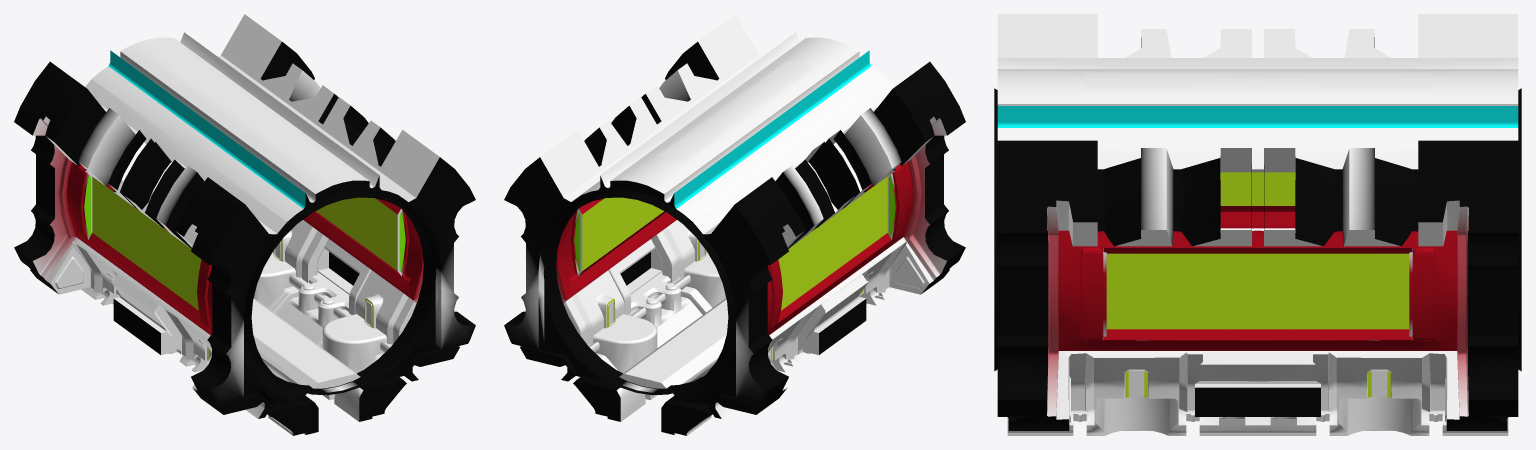
Rendered from part_main-lod0.dae.
3 views of the same model, side by side, from view 1: azimuth 30°, elevation 25°; view 2: azimuth 150°, elevation 25°; view 3: azimuth 270°, elevation 25° (orthographic). The views are drawn at different scales.
Parts seen in each view (by area): view 1: part_main-lod0Xlod0Xp2genericXgen_p2_hulltextureaged_02_b, part_main-lod0Xlod0Xp2genericXgen_p2_hullpattern_01, part_main-lod0Xlod0Xp2genericXgen_p2_hulltexture_02_c, part_main-lod0Xlod0Xp2multimatXp2_multimat_01, part_main-lod0Xlod0Xp2genericXgen_p2_fx_01; view 2: part_main-lod0Xlod0Xp2genericXgen_p2_hulltextureaged_02_b, part_main-lod0Xlod0Xp2genericXgen_p2_hullpattern_01, part_main-lod0Xlod0Xp2genericXgen_p2_hulltexture_02_c, part_main-lod0Xlod0Xp2multimatXp2_multimat_01, part_main-lod0Xlod0Xp2genericXgen_p2_fx_01; view 3: part_main-lod0Xlod0Xp2genericXgen_p2_hulltextureaged_02_b, part_main-lod0Xlod0Xp2genericXgen_p2_hulltexture_02_c, part_main-lod0Xlod0Xp2genericXgen_p2_hullpattern_01, part_main-lod0Xlod0Xp2multimatXp2_multimat_01, part_main-lod0Xlod0Xp2genericXgen_p2_fx_01.
Boxes of the visible parts, x1,y1,x2,y2 form: part_main-lod0Xlod0Xp2genericXgen_p2_hulltextureaged_02_b: [14, 32, 475, 435]; part_main-lod0Xlod0Xp2genericXgen_p2_hullpattern_01: [14, 14, 475, 435]; part_main-lod0Xlod0Xp2genericXgen_p2_hulltexture_02_c: [85, 37, 400, 315]; part_main-lod0Xlod0Xp2multimatXp2_multimat_01: [67, 127, 422, 360]; part_main-lod0Xlod0Xp2genericXgen_p2_fx_01: [113, 252, 359, 354]; part_main-lod0Xlod0Xp2genericXgen_p2_hulltextureaged_02_b: [504, 32, 965, 435]; part_main-lod0Xlod0Xp2genericXgen_p2_hullpattern_01: [504, 14, 965, 435]; part_main-lod0Xlod0Xp2genericXgen_p2_hulltexture_02_c: [579, 37, 894, 315]; part_main-lod0Xlod0Xp2multimatXp2_multimat_01: [557, 127, 912, 360]; part_main-lod0Xlod0Xp2genericXgen_p2_fx_01: [620, 252, 866, 354]; part_main-lod0Xlod0Xp2genericXgen_p2_hulltextureaged_02_b: [994, 58, 1521, 435]; part_main-lod0Xlod0Xp2genericXgen_p2_hulltexture_02_c: [997, 69, 1518, 340]; part_main-lod0Xlod0Xp2genericXgen_p2_hullpattern_01: [997, 14, 1518, 430]; part_main-lod0Xlod0Xp2multimatXp2_multimat_01: [1060, 37, 1455, 397]; part_main-lod0Xlod0Xp2genericXgen_p2_fx_01: [1195, 387, 1320, 416].
Size of the model in its own units: 25.21 by 22.5 by 32.39.
